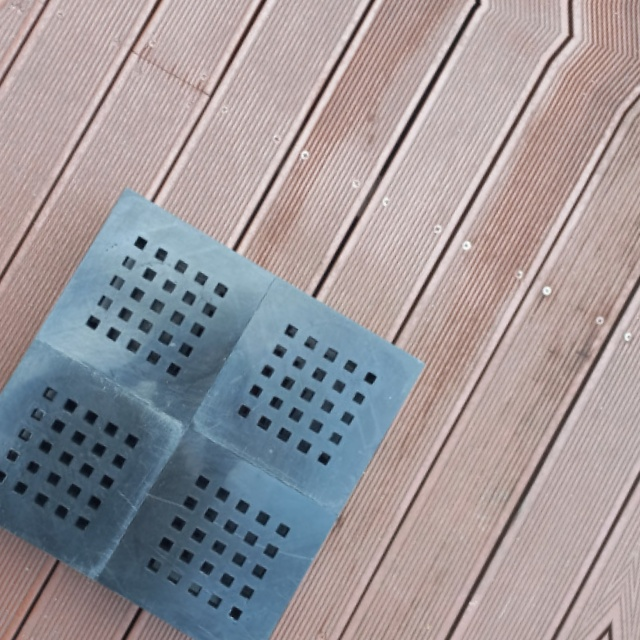pallet: (0, 182, 433, 640)
